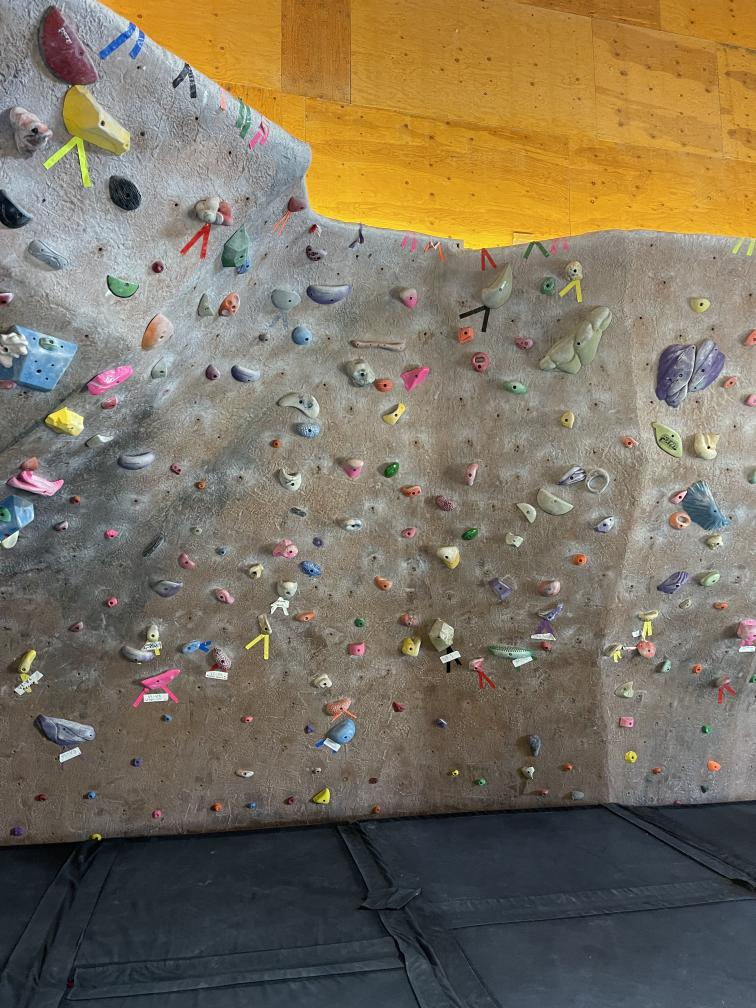Crimp: (61, 84, 133, 156), (32, 712, 96, 748), (480, 261, 515, 312), (536, 487, 574, 516), (101, 275, 144, 299), (534, 600, 568, 622), (558, 463, 586, 489), (196, 289, 217, 322), (84, 430, 118, 450), (514, 498, 538, 526), (150, 355, 169, 384), (99, 396, 121, 417), (593, 514, 616, 534), (176, 552, 197, 571), (689, 296, 710, 314), (560, 408, 575, 431), (504, 530, 523, 548), (181, 639, 201, 656), (375, 578, 395, 594), (37, 337, 59, 351), (22, 457, 40, 473), (53, 520, 71, 534), (255, 332, 273, 344), (571, 553, 587, 566), (713, 603, 728, 611)
Edges: (539, 303, 615, 383), (653, 338, 726, 410), (682, 479, 733, 532), (26, 235, 74, 276), (6, 468, 68, 499), (42, 407, 90, 440), (348, 340, 410, 352)
Foothold: (613, 681, 636, 700), (312, 786, 332, 805), (149, 259, 168, 278), (100, 528, 119, 544), (167, 462, 187, 477), (398, 526, 417, 540), (520, 766, 536, 782), (234, 767, 255, 779), (538, 639, 554, 654), (69, 620, 84, 635), (624, 749, 638, 765), (535, 788, 552, 801), (570, 790, 588, 802), (240, 713, 257, 725), (312, 536, 326, 550), (302, 723, 316, 737), (390, 702, 405, 715), (8, 826, 24, 838), (188, 527, 205, 538), (106, 597, 120, 610), (436, 718, 450, 731), (691, 663, 703, 678), (282, 794, 298, 805), (706, 760, 722, 771), (244, 799, 258, 811), (701, 724, 715, 736), (270, 438, 284, 450), (196, 480, 209, 492), (160, 712, 173, 724), (353, 616, 366, 628), (372, 802, 383, 816), (210, 802, 225, 812), (85, 790, 98, 801), (36, 793, 49, 804), (367, 776, 380, 787), (152, 809, 164, 820), (132, 758, 145, 768), (89, 831, 102, 841), (72, 496, 85, 506), (311, 765, 324, 775), (449, 769, 460, 780), (215, 547, 227, 557), (562, 764, 574, 774), (700, 783, 712, 793), (652, 766, 663, 776), (476, 779, 487, 786)
Jug: (34, 2, 101, 88), (84, 364, 136, 398), (187, 196, 237, 231), (106, 172, 146, 213), (140, 312, 180, 352), (651, 420, 686, 460), (276, 390, 322, 420), (305, 280, 354, 305), (692, 430, 727, 462), (138, 668, 183, 692), (346, 355, 375, 390), (115, 451, 159, 472), (272, 536, 303, 563), (269, 285, 302, 310), (230, 363, 262, 388), (401, 364, 431, 390), (276, 466, 304, 493), (300, 241, 330, 266), (150, 580, 188, 599), (117, 646, 157, 664), (434, 545, 461, 571), (560, 259, 586, 285), (342, 453, 367, 480), (275, 579, 300, 602), (204, 360, 224, 386), (401, 634, 423, 657), (256, 611, 274, 638), (286, 192, 308, 214), (637, 606, 660, 627), (213, 585, 234, 607), (398, 288, 419, 309), (636, 641, 658, 661), (340, 516, 367, 532), (618, 432, 641, 450), (245, 560, 263, 582), (399, 482, 423, 498), (656, 658, 675, 678), (605, 643, 626, 660), (383, 461, 401, 479), (707, 534, 725, 552), (466, 656, 486, 672), (713, 676, 733, 692), (460, 526, 479, 541), (375, 378, 394, 393)
Pinch: (487, 644, 536, 662), (218, 291, 242, 321), (16, 648, 39, 679), (487, 577, 515, 601), (382, 403, 407, 427), (454, 324, 478, 344), (462, 460, 479, 488), (309, 671, 334, 690), (502, 379, 530, 395), (144, 619, 160, 647), (540, 275, 558, 298), (291, 610, 318, 625), (701, 568, 720, 588), (510, 337, 537, 351), (616, 714, 638, 730), (347, 643, 370, 658), (670, 488, 688, 506), (722, 376, 738, 390)
Pocket: (583, 463, 616, 496), (668, 509, 692, 532), (470, 350, 491, 375)
Sloper: (7, 104, 55, 164), (326, 717, 360, 748), (657, 570, 690, 597), (535, 577, 568, 598), (324, 697, 354, 718), (210, 645, 234, 671), (428, 496, 465, 512), (290, 325, 314, 349), (300, 559, 324, 580), (294, 422, 323, 439), (398, 614, 421, 630)
